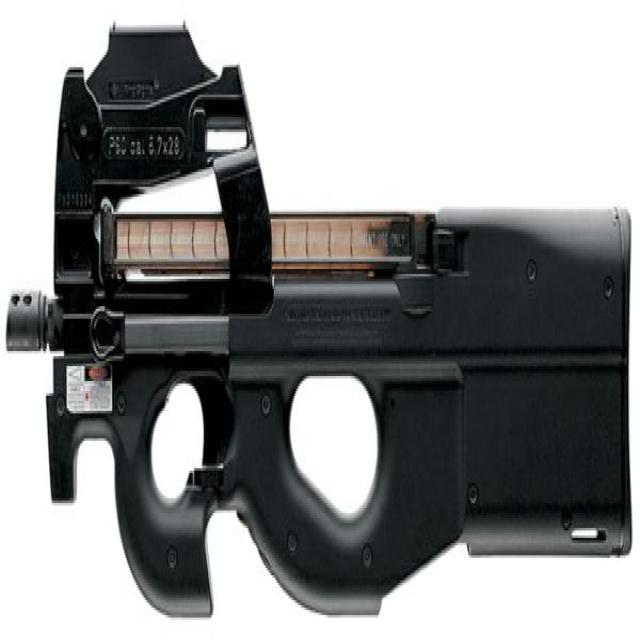SMG: (9, 22, 637, 620)
